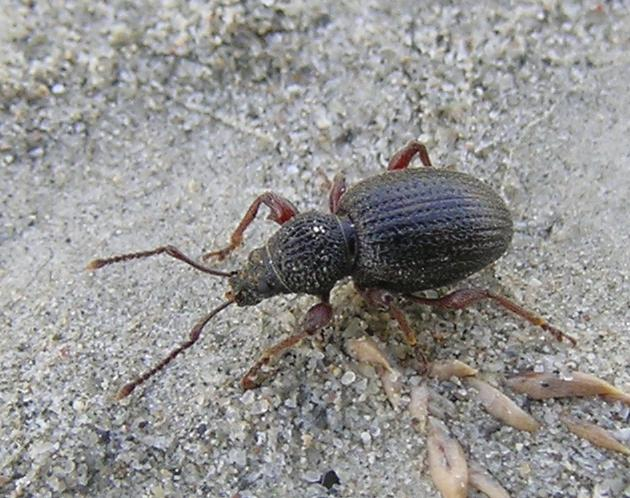weevils: (21, 97, 616, 446)
